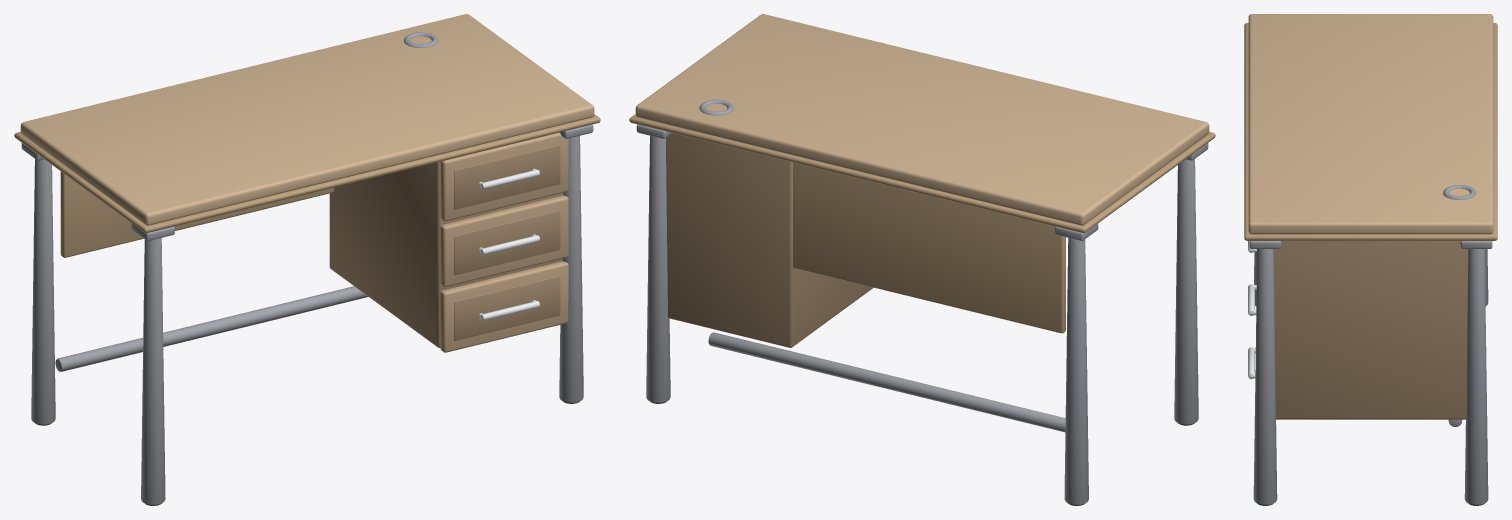
Rendered from desk.glb.
3 views of the same model, side by side, from view 1: azimuth 30°, elevation 25°; view 2: azimuth 150°, elevation 25°; view 3: azimuth 270°, elevation 25° (orthographic). The views are drawn at different scales.
Visible parts, largest first — view 1: Desk_Tabletop, Desk_DrawerCarcass, Desk_Leg_-0.55_-0.25, Desk_Leg_-0.55_0.25, Desk_ModestyPanel, Desk_TopEdgeBand, Desk_Leg_0.55_-0.25, Desk_StretcherRail, Desk_DrawerFront_0, Desk_DrawerFront_1, Desk_DrawerReveal_1, Desk_DrawerReveal_0 (+2 smaller); view 2: Desk_Tabletop, Desk_ModestyPanel, Desk_DrawerCarcass, Desk_Leg_-0.55_0.25, Desk_Leg_-0.55_-0.25, Desk_Leg_0.55_0.25, Desk_StretcherRail, Desk_TopEdgeBand; view 3: Desk_Tabletop, Desk_DrawerCarcass, Desk_Leg_0.55_0.25, Desk_Leg_0.55_-0.25, Desk_TopEdgeBand, Desk_CableGrommet.
Part boxes in pixels (x1,y1,x2,y2): Desk_Tabletop: (20,14,594,225); Desk_DrawerCarcass: (329,161,563,347); Desk_Leg_-0.55_-0.25: (141,238,165,504); Desk_Leg_-0.55_0.25: (31,159,55,424); Desk_ModestyPanel: (60,171,333,257); Desk_TopEdgeBand: (14,114,600,233); Desk_Leg_0.55_-0.25: (559,136,583,402); Desk_StretcherRail: (55,286,368,371); Desk_DrawerFront_0: (440,261,568,352); Desk_DrawerFront_1: (440,195,568,286); Desk_DrawerReveal_1: (454,210,560,275); Desk_DrawerReveal_0: (454,276,560,340); Desk_Tabletop: (635,14,1209,225); Desk_ModestyPanel: (793,162,1065,333); Desk_DrawerCarcass: (666,133,873,347); Desk_Leg_-0.55_0.25: (1064,238,1088,504); Desk_Leg_-0.55_-0.25: (1174,159,1198,424); Desk_Leg_0.55_0.25: (646,136,670,402); Desk_StretcherRail: (708,332,1065,432); Desk_TopEdgeBand: (629,114,1215,233); Desk_Tabletop: (1248,14,1493,234); Desk_DrawerCarcass: (1273,241,1468,419); Desk_Leg_0.55_0.25: (1464,249,1488,504); Desk_Leg_0.55_-0.25: (1253,249,1277,504); Desk_TopEdgeBand: (1244,23,1497,240); Desk_CableGrommet: (1443,184,1476,199).
Bounding box in the file's own units: 1.2 × 0.7536 × 0.6.
